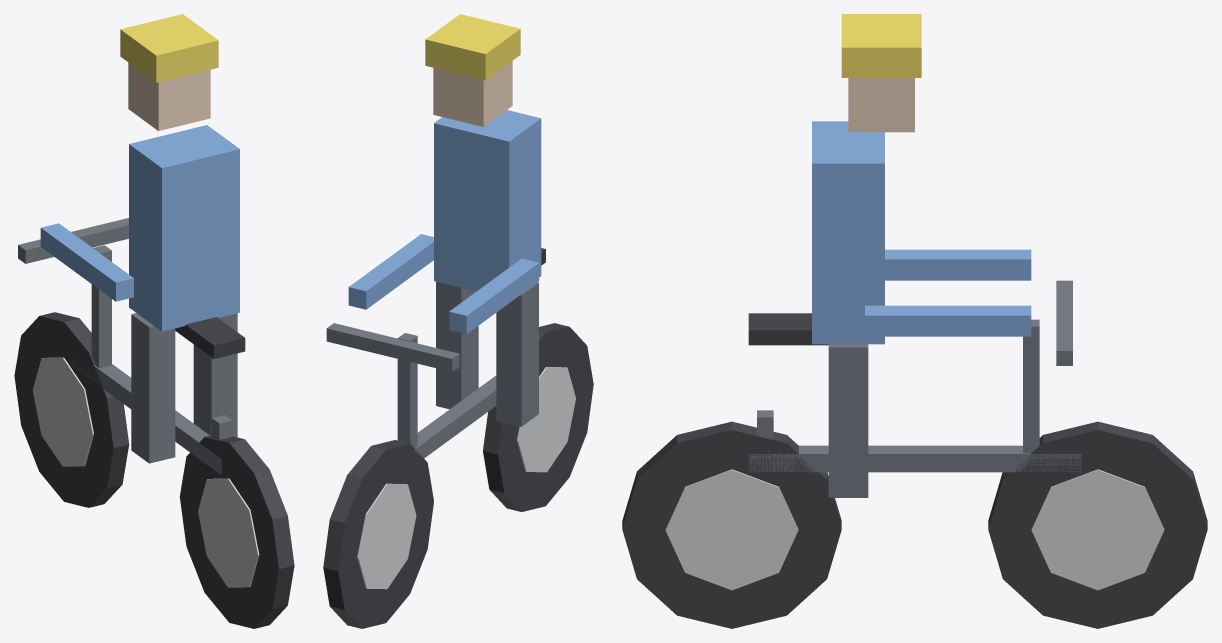
The model's file is bike.glb.
3 views of the same model, side by side, from view 1: azimuth 30°, elevation 25°; view 2: azimuth 150°, elevation 25°; view 3: azimuth 270°, elevation 25° (orthographic). The views are drawn at different scales.
Parts seen in each view (by area): view 1: body, wheel_r, wheel_f; view 2: body, wheel_f, wheel_r; view 3: body, wheel_f, wheel_r.
Part boxes in pixels (x1,y1,x2,y2): body: [18, 14, 245, 475]; wheel_r: [179, 435, 294, 628]; wheel_f: [14, 312, 129, 507]; body: [326, 14, 545, 458]; wheel_f: [323, 440, 433, 628]; wheel_r: [483, 323, 593, 511]; body: [748, 14, 1081, 497]; wheel_f: [988, 421, 1207, 628]; wheel_r: [622, 421, 841, 628].
Size of the model in its own units: 0.5 by 1.97 by 1.76.
